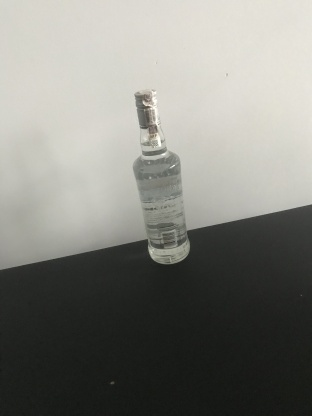nakretka: (133, 88, 162, 129)
